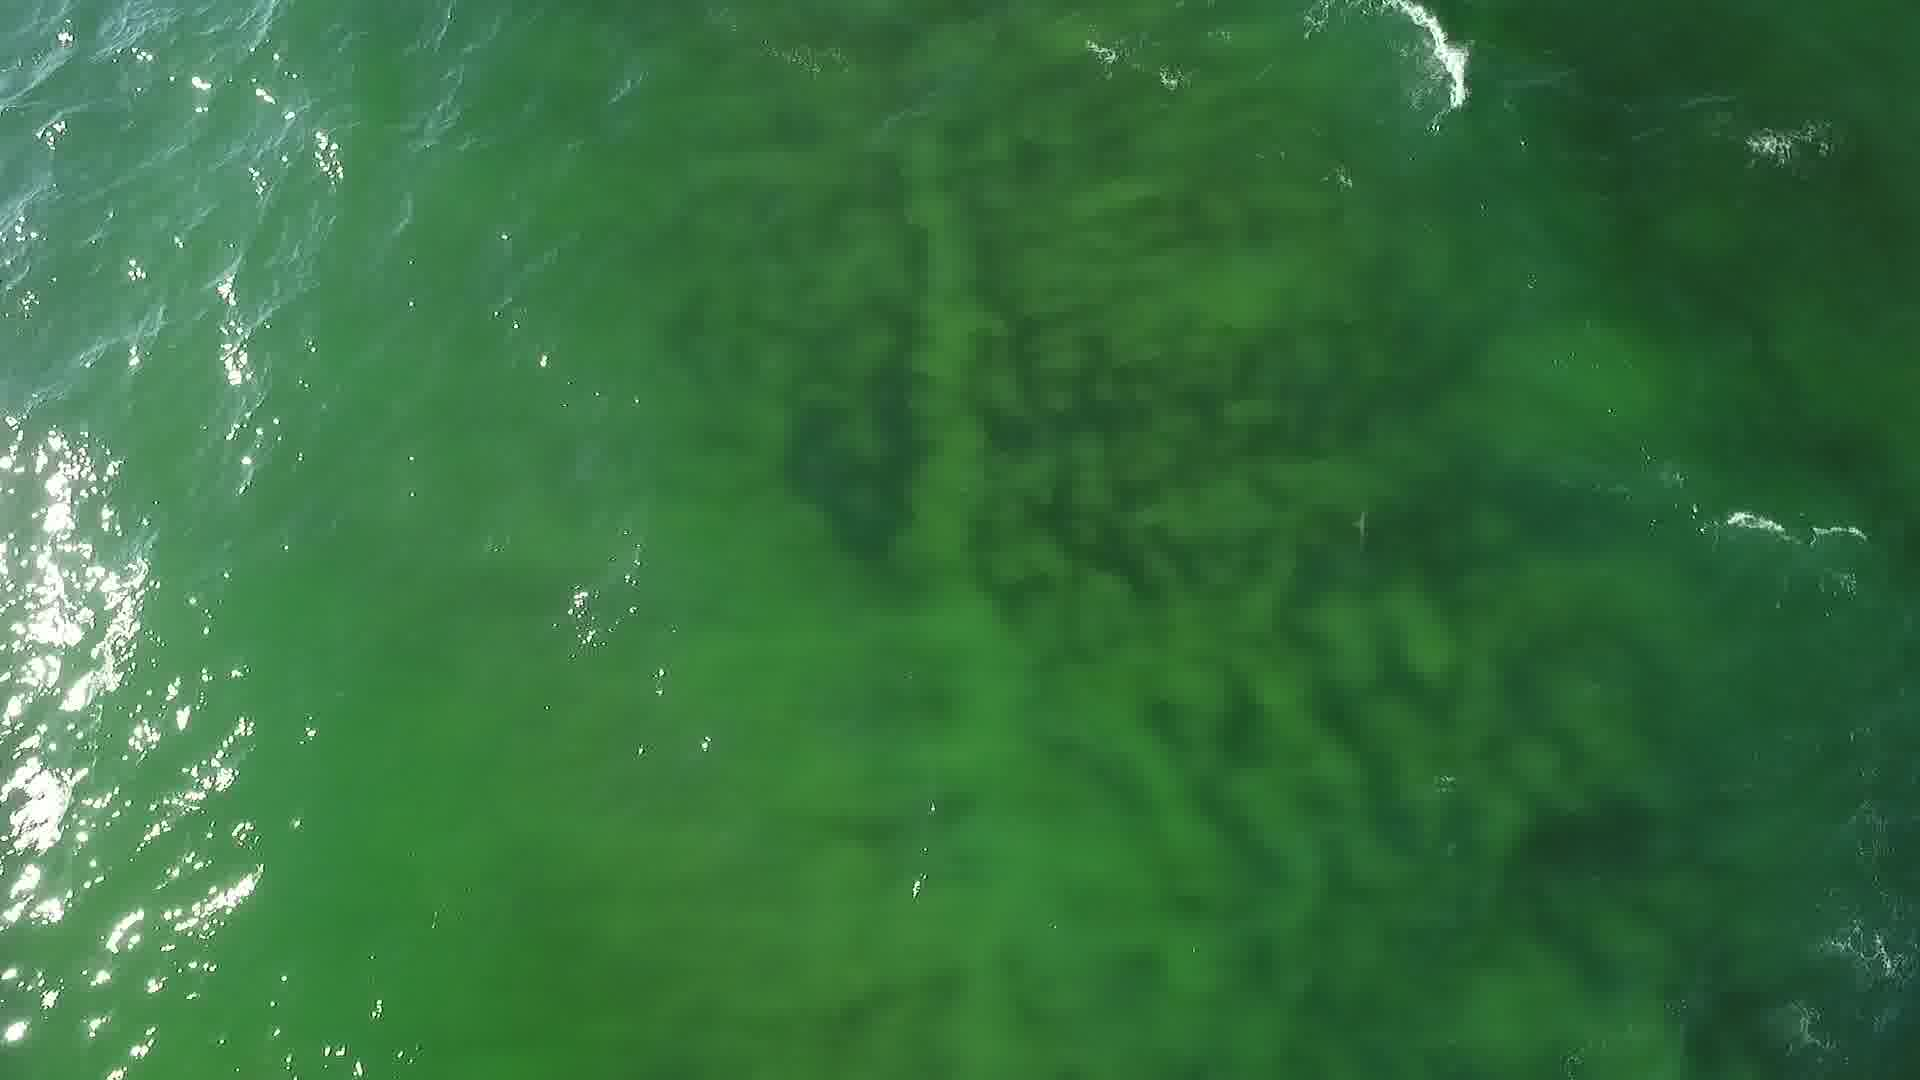shark: (1348, 506, 1379, 553)
